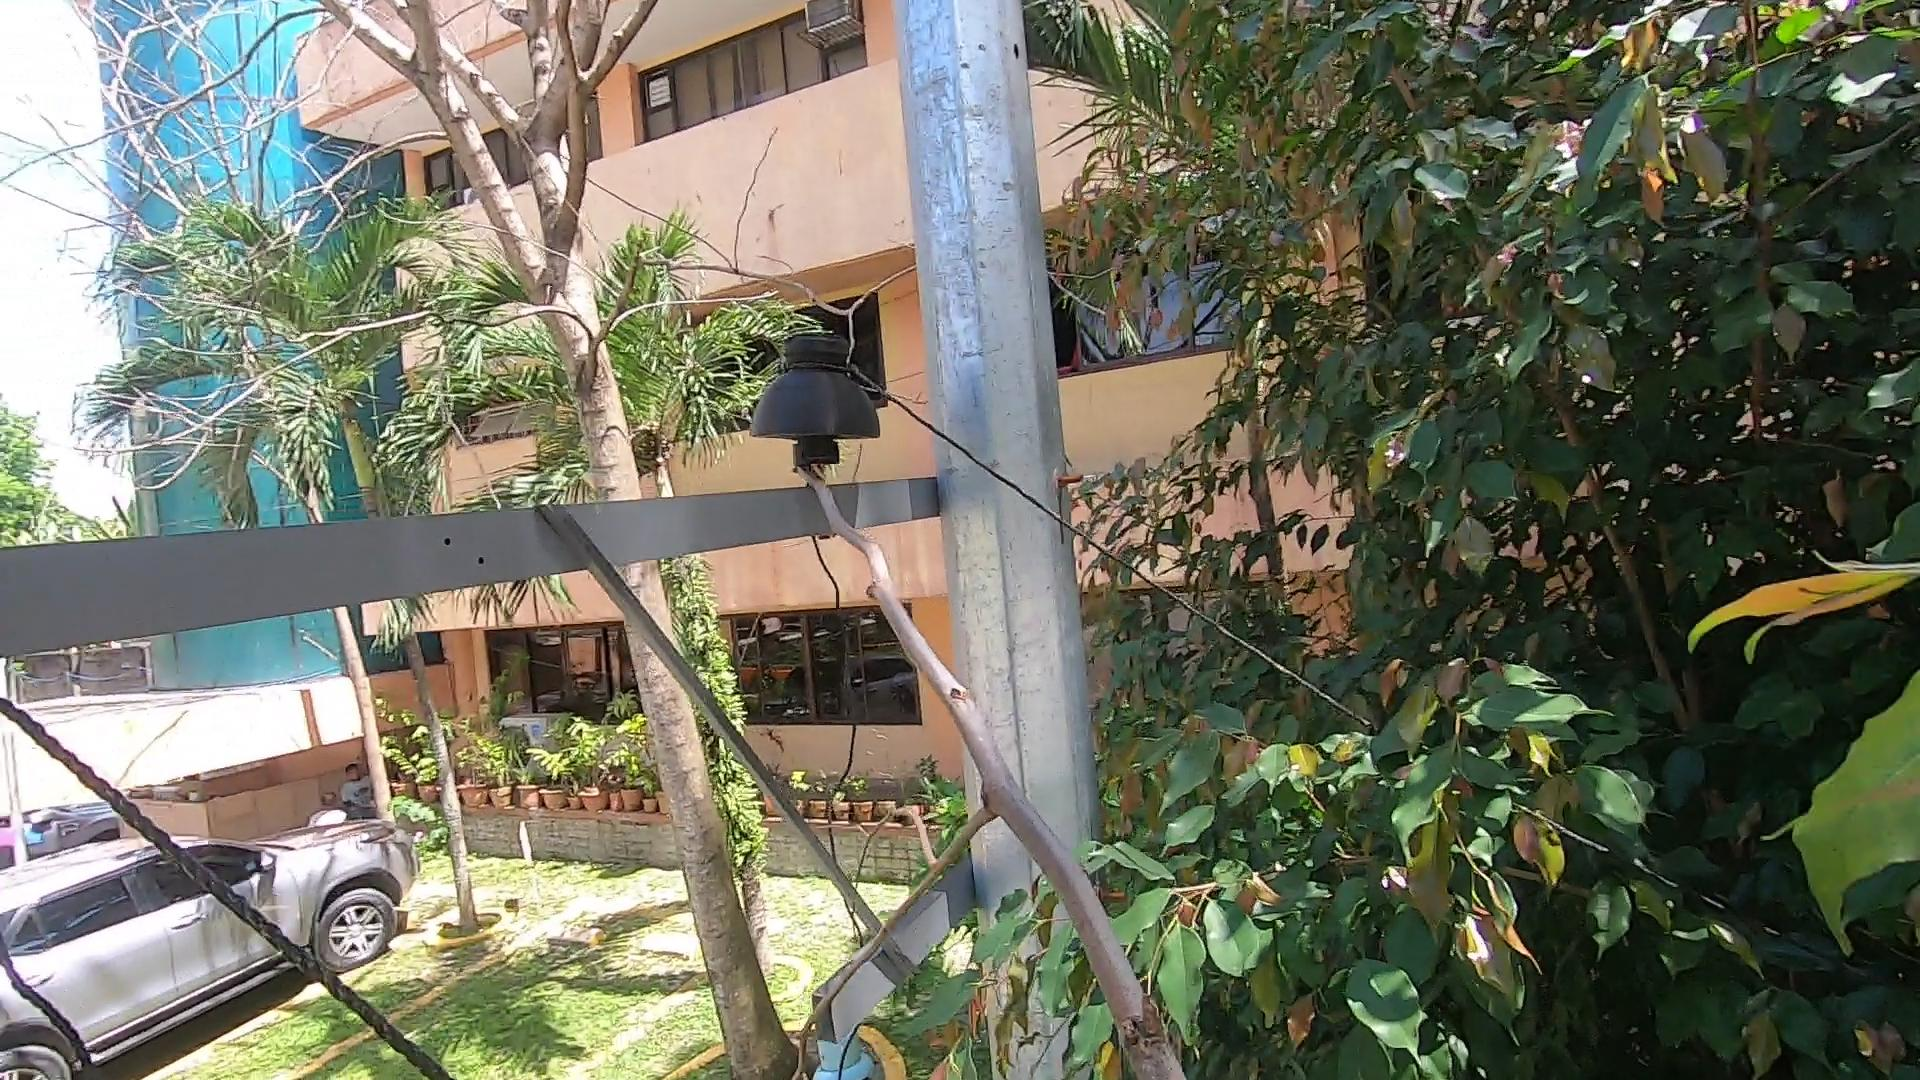branch with leaves: (947, 878, 1189, 1080)
tree branch: (723, 375, 1189, 1080)
